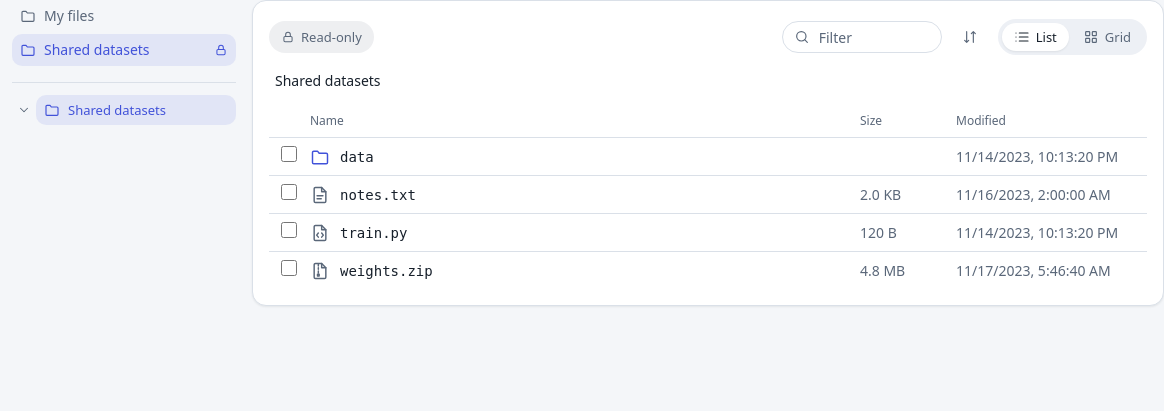
Scenario: Files workspace › hides write actions in a read-only area
This screenshot has width=1164, height=411.
Click the button "train.py".
click(374, 232)  # box [340,222,407,242]
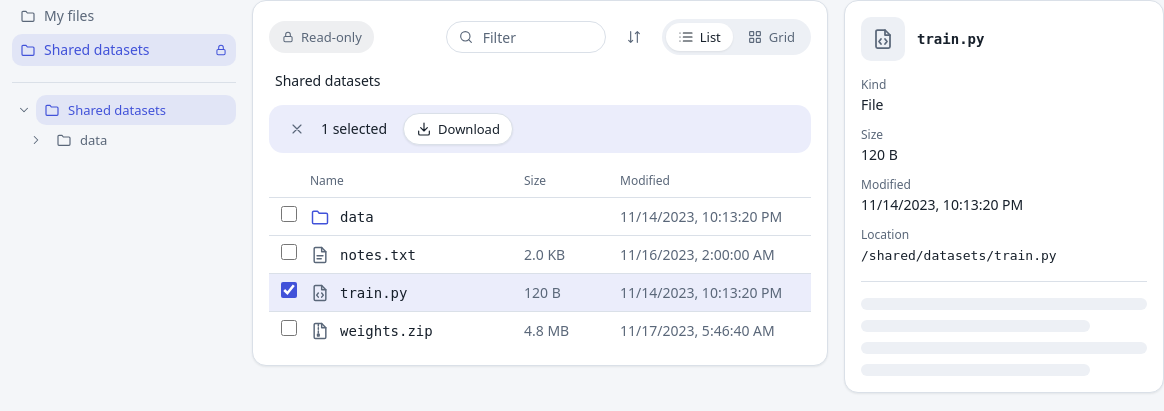
Expected: the text "Read-only" is shown, [269,21,374,53]
Result: the button "Download" is shown at [403,113,513,145]
Right-click the button "train.py".
right_click(374, 292)  # box [340,282,407,302]
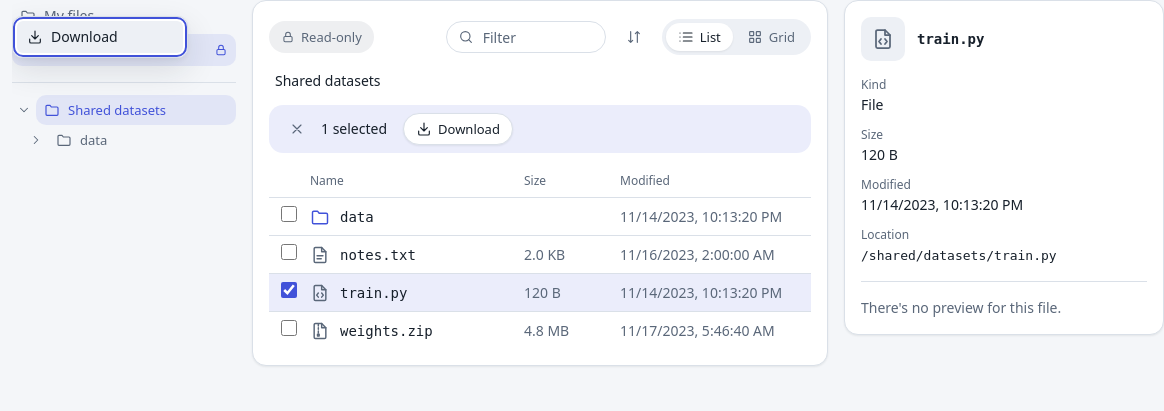
Result: the menu items read "Download", in this order at [17,21,183,53]
